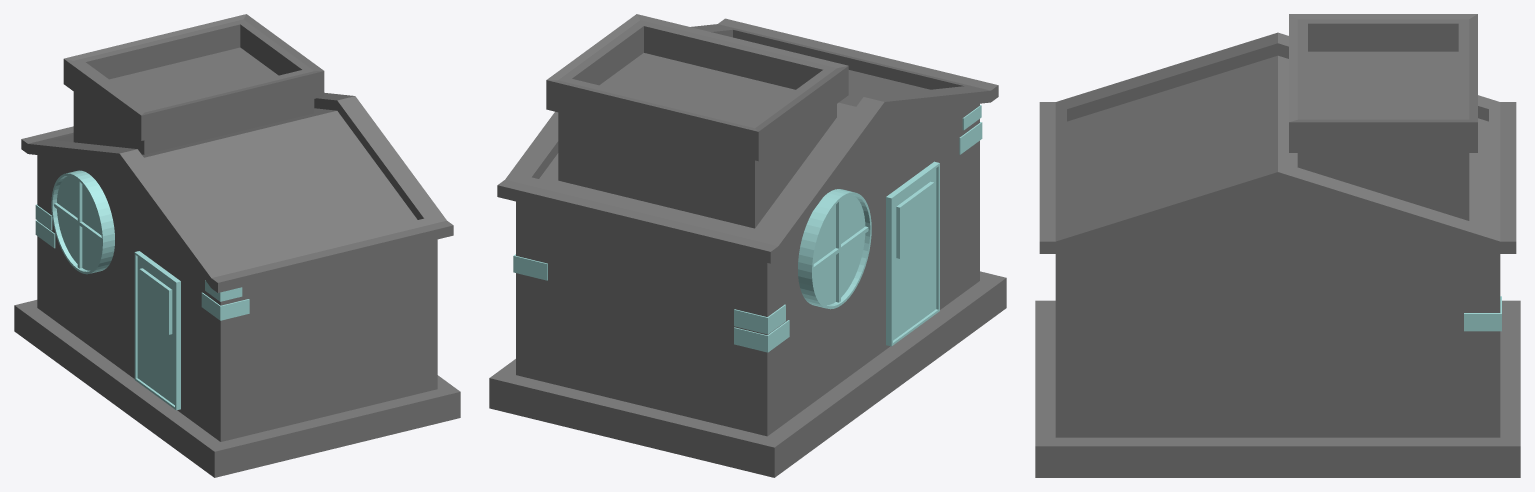
File: small-house-model.gltf
3 renders of one model, left to right at view 1: azimuth 30°, elevation 25°; view 2: azimuth 150°, elevation 25°; view 3: azimuth 270°, elevation 25°, orthographic. The views are drawn at different scales.
Visible parts, largest first — view 1: House_body, Door.001, Window_body, Door_window, Brick.002, Window_wood; view 2: House_body, Door.001, Window_body, Door_window, Brick.004, Brick.003, Brick; view 3: House_body, Brick.
Boxes of the visible parts, bbox=[...] form: House_body: bbox=[14, 14, 460, 477]; Door.001: bbox=[134, 251, 180, 410]; Window_body: bbox=[51, 170, 114, 274]; Door_window: bbox=[139, 268, 172, 334]; Brick.002: bbox=[201, 292, 249, 320]; Window_wood: bbox=[77, 180, 82, 268]; House_body: bbox=[489, 14, 1006, 477]; Door.001: bbox=[886, 161, 939, 346]; Window_body: bbox=[798, 189, 871, 309]; Door_window: bbox=[896, 181, 934, 258]; Brick.004: bbox=[734, 320, 789, 352]; Brick.003: bbox=[734, 304, 785, 334]; Brick: bbox=[513, 254, 547, 280]; House_body: bbox=[1035, 14, 1520, 477]; Brick: bbox=[1464, 296, 1501, 331].
Bounding box in the file's own units: 1.38 × 1.49 × 1.94.
